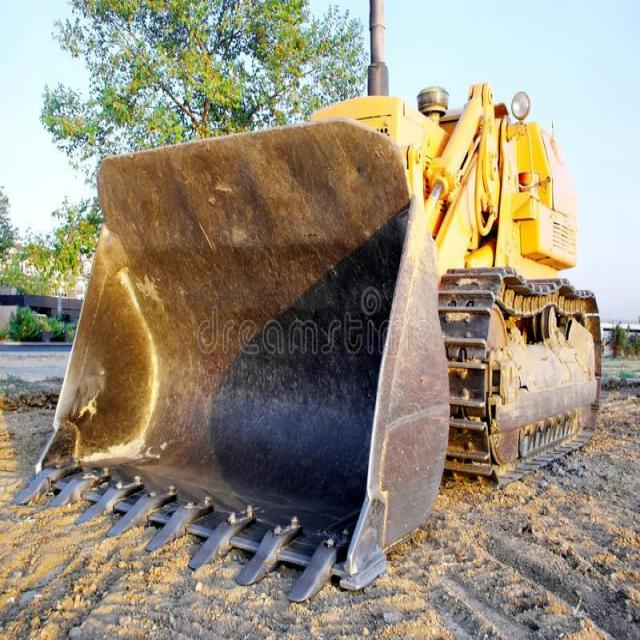Bulldozer: (71, 62, 626, 598)
